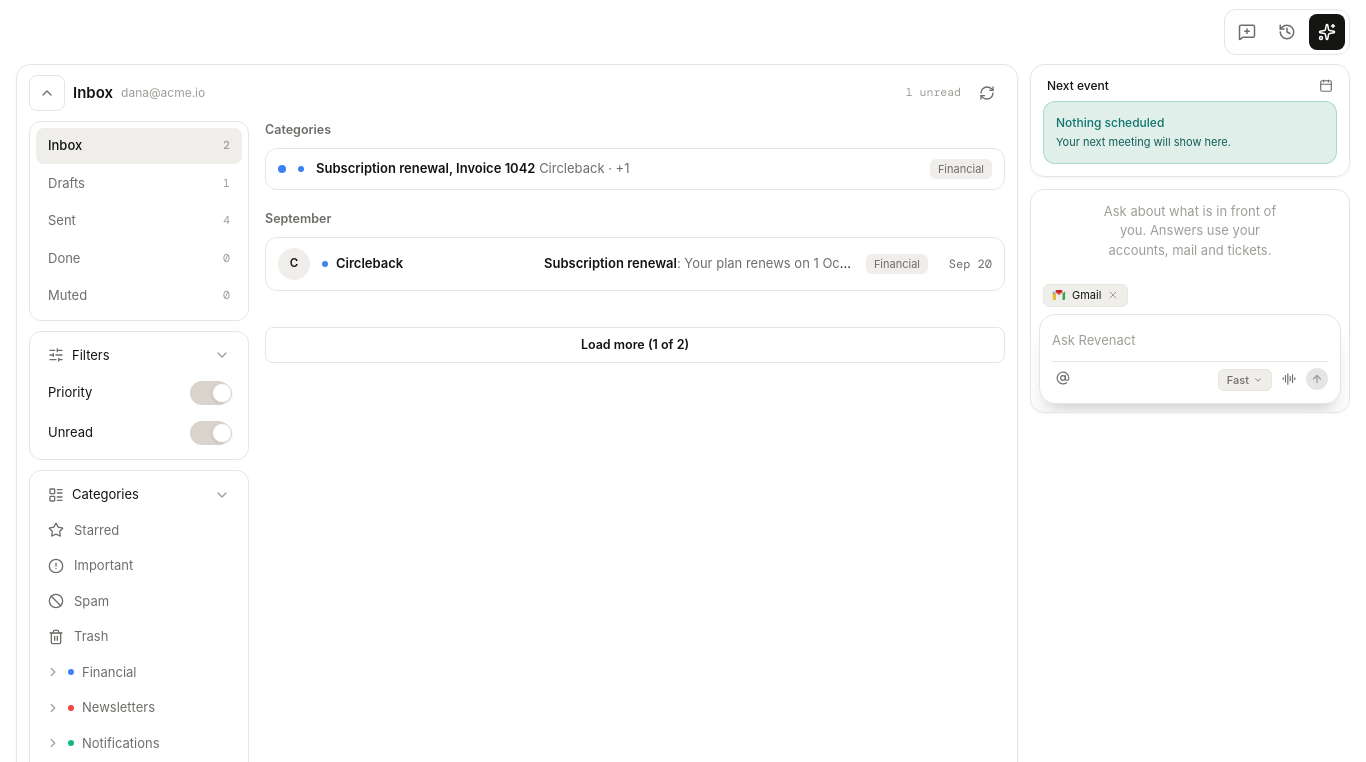
Test case: MailboxView › follows the next page on Load more
Check: the element "September" is shown, box [265,210,1005,291]
Check: the element "August" is not shown
What coordinates should you click on to do the following:
click the button "Load more (1 of 2)"
I would click on:
 (635, 345)
Its box is [265,327,1005,363].
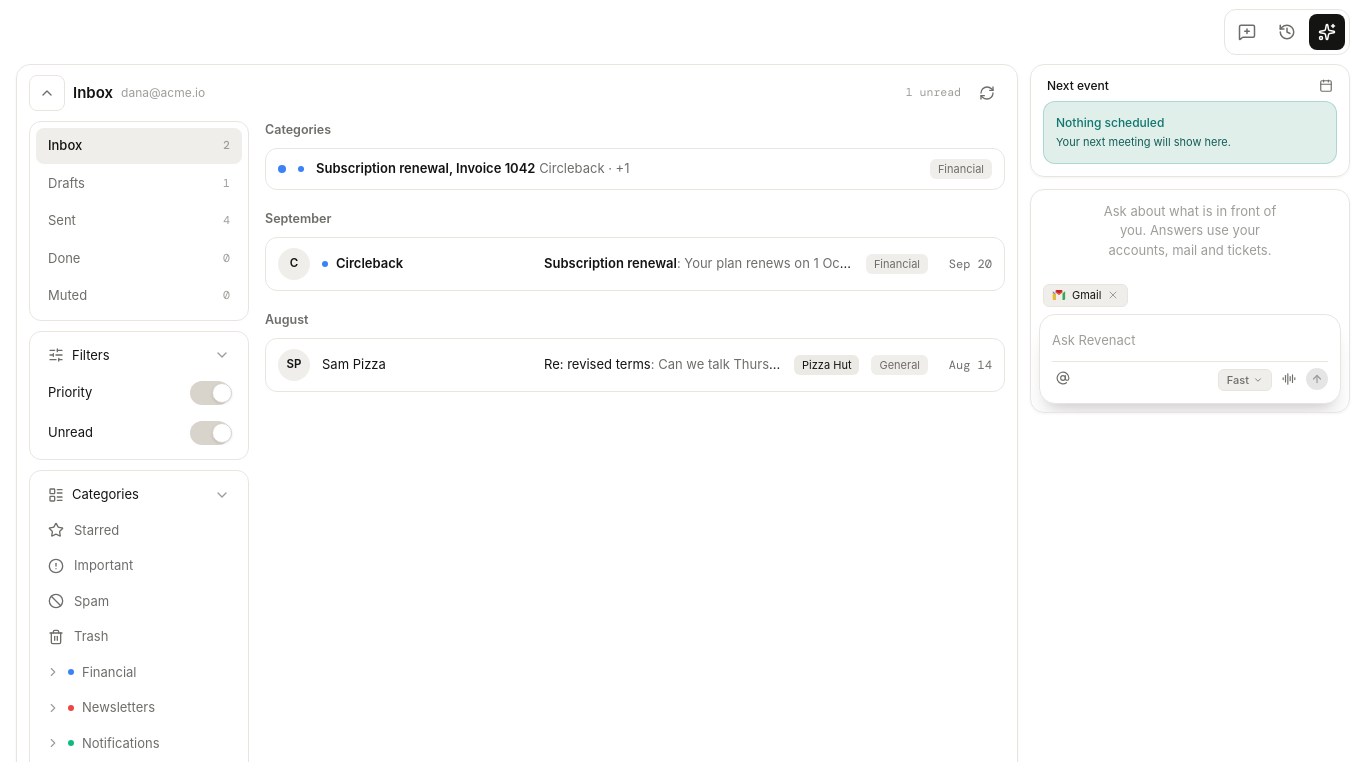
Check: the element "September" is shown, box [265,210,1005,291]
Check: the element "August" is shown, box [265,311,1005,392]
Check: the button "Load more" is gone
